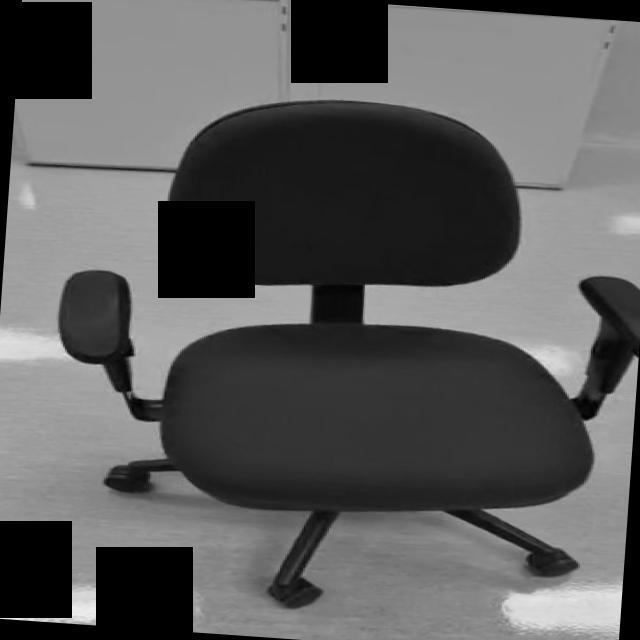chair: (36, 81, 640, 630)
